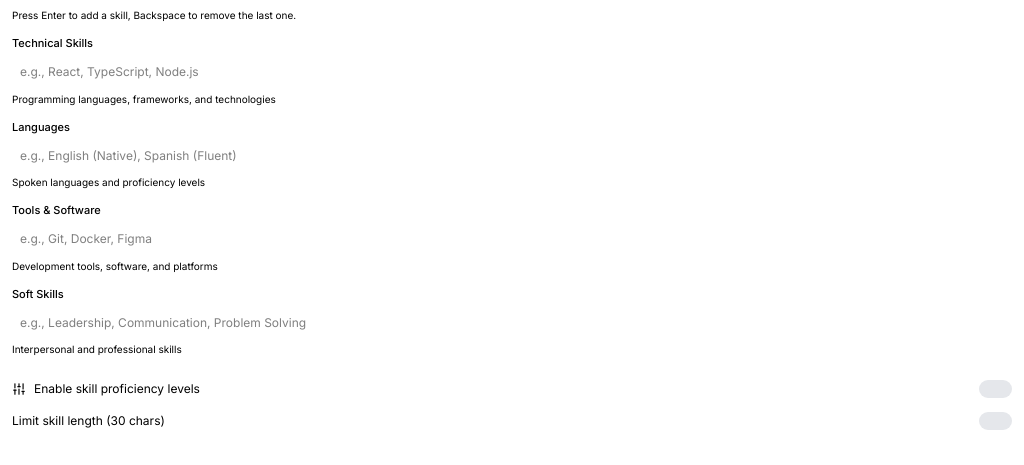
SkillsForm › Adding Skills - Other Categories › adds tool skills
Type "Docker" into the field with placeholder "e.g., Git, Docker, Figma" at (512, 238), box [20,228,1004,248]
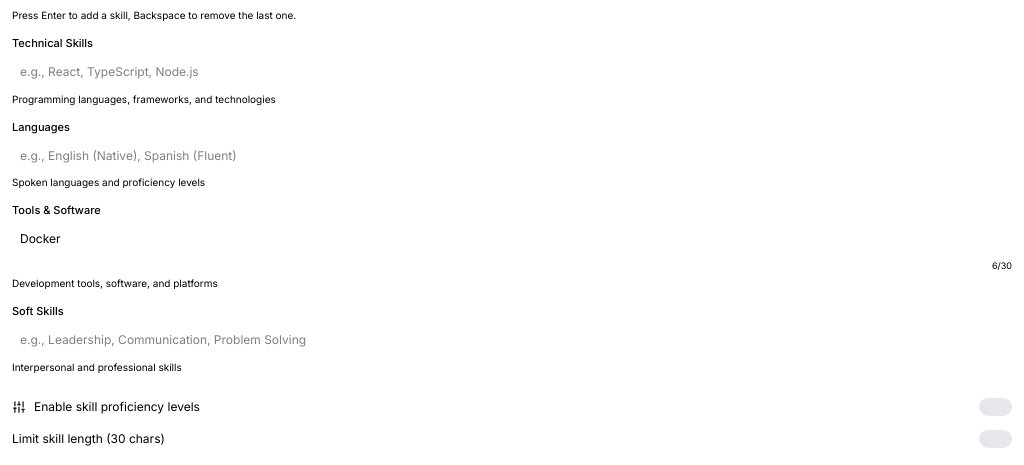
Press Enter
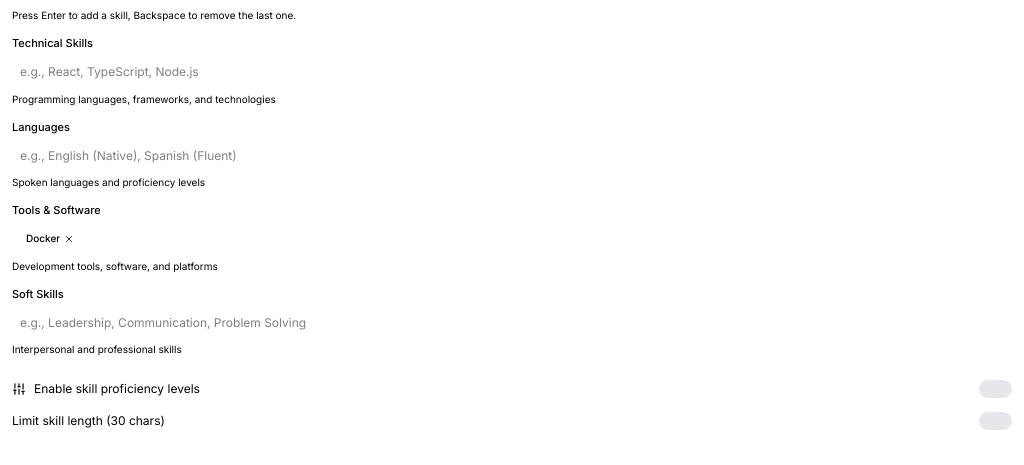
Now the text "Docker" is shown, box [26,232,60,245]
